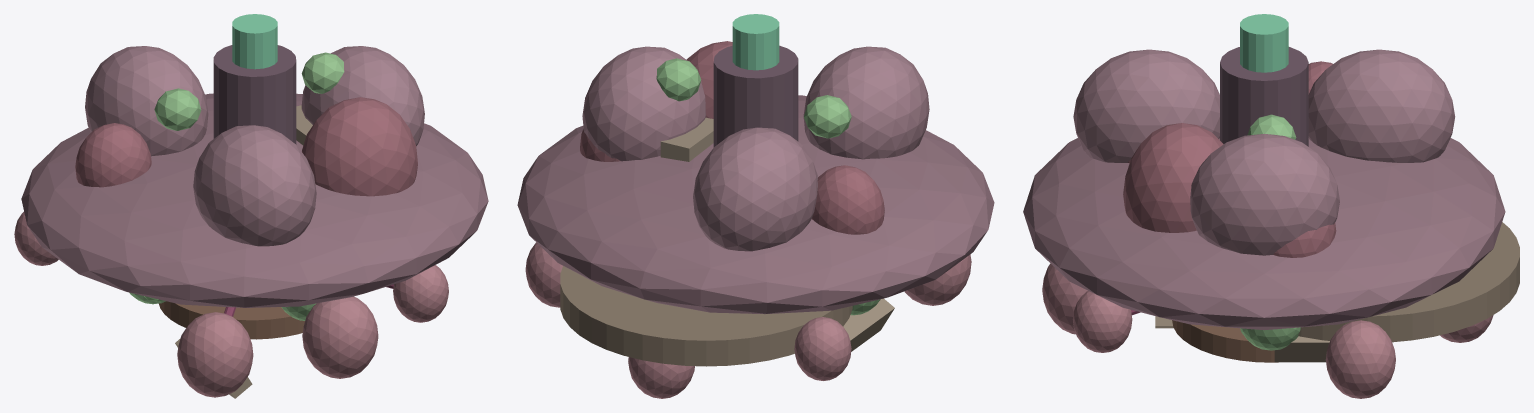
File: zglengo_extractor_sac.glb
3 views of the same model, side by side, from view 1: azimuth 30°, elevation 25°; view 2: azimuth 150°, elevation 25°; view 3: azimuth 270°, elevation 25° (orthographic). The views are drawn at different scales.
Visible parts, largest first — view 1: base_mound, wrap_sac_1, breathe_sac_3, wrap_sac_2, vent_core, wrap_sac_0, bubo_2, bubo_5, breathe_sac_0, vent_collar_bubo, gas_column, bubo_3 (+3 smaller); view 2: base_mound, vent_ring, wrap_sac_2, wrap_sac_1, wrap_sac_0, vent_core, breathe_sac_0, bubo_0, gas_column, bubo_4, bubo_1, gas_bulb_0 (+6 smaller); view 3: base_mound, wrap_sac_0, wrap_sac_2, wrap_sac_1, vent_ring, breathe_sac_3, vent_core, bubo_1, bubo_3, gas_column, vent_collar_bubo, bubo_5 (+5 smaller).
Part boxes in pixels (bbox=[...]): base_mound: bbox=[21, 93, 488, 307]; wrap_sac_1: bbox=[193, 125, 316, 246]; breathe_sac_3: bbox=[302, 97, 417, 196]; wrap_sac_2: bbox=[85, 46, 208, 156]; vent_core: bbox=[213, 45, 296, 144]; wrap_sac_0: bbox=[301, 46, 424, 145]; bubo_2: bbox=[177, 312, 253, 397]; bubo_5: bbox=[302, 296, 378, 378]; breathe_sac_0: bbox=[75, 123, 151, 187]; vent_collar_bubo: bbox=[159, 301, 304, 339]; gas_column: bbox=[232, 14, 277, 69]; bubo_3: bbox=[393, 265, 448, 322]; base_mound: bbox=[517, 95, 994, 314]; vent_ring: bbox=[560, 266, 852, 366]; wrap_sac_2: bbox=[693, 127, 817, 251]; wrap_sac_1: bbox=[803, 46, 929, 159]; wrap_sac_0: bbox=[582, 46, 705, 161]; vent_core: bbox=[713, 45, 798, 147]; breathe_sac_0: bbox=[812, 165, 884, 234]; bubo_0: bbox=[794, 317, 851, 380]; gas_column: bbox=[732, 14, 779, 70]; bubo_4: bbox=[628, 357, 694, 398]; bubo_1: bbox=[525, 242, 562, 307]; gas_bulb_0: bbox=[804, 95, 851, 138]; base_mound: bbox=[1023, 138, 1505, 330]; wrap_sac_0: bbox=[1190, 133, 1339, 255]; wrap_sac_2: bbox=[1308, 49, 1455, 162]; wrap_sac_1: bbox=[1073, 49, 1219, 162]; vent_ring: bbox=[1298, 222, 1519, 342]; breathe_sac_3: bbox=[1123, 123, 1223, 232]; vent_core: bbox=[1220, 47, 1308, 146]; bubo_1: bbox=[1325, 320, 1395, 398]; bubo_3: bbox=[1072, 291, 1132, 352]; gas_column: bbox=[1240, 14, 1288, 72]; vent_collar_bubo: bbox=[1172, 320, 1278, 362]; bubo_5: bbox=[1042, 263, 1087, 334].
Size of the model in its own units: 2.04 by 1.53 by 2.02.
